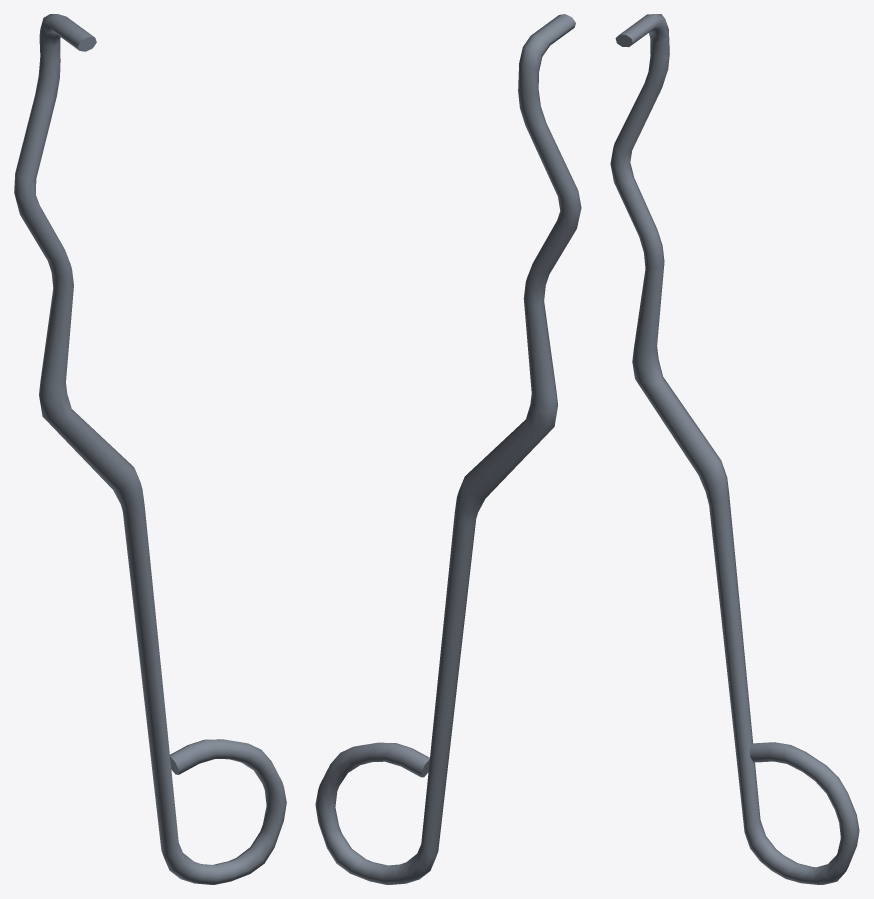
Rendered from heating_equipment_forcepsleft.glb.
3 renders of one model, left to right at view 1: azimuth 30°, elevation 25°; view 2: azimuth 150°, elevation 25°; view 3: azimuth 330°, elevation 25°, orthographic. The views are drawn at different scales.
Visible parts, largest first — view 1: heating_equipment_forcepsleft; view 2: heating_equipment_forcepsleft; view 3: heating_equipment_forcepsleft.
Part boxes in pixels (box(x1,y1,x2,y2)): heating_equipment_forcepsleft: box(14, 14, 286, 884); heating_equipment_forcepsleft: box(315, 14, 581, 884); heating_equipment_forcepsleft: box(610, 14, 859, 884).
Size of the model in its own units: 11.78 by 37.78 by 3.27.
Materials: 1 (1 with a texture image).
